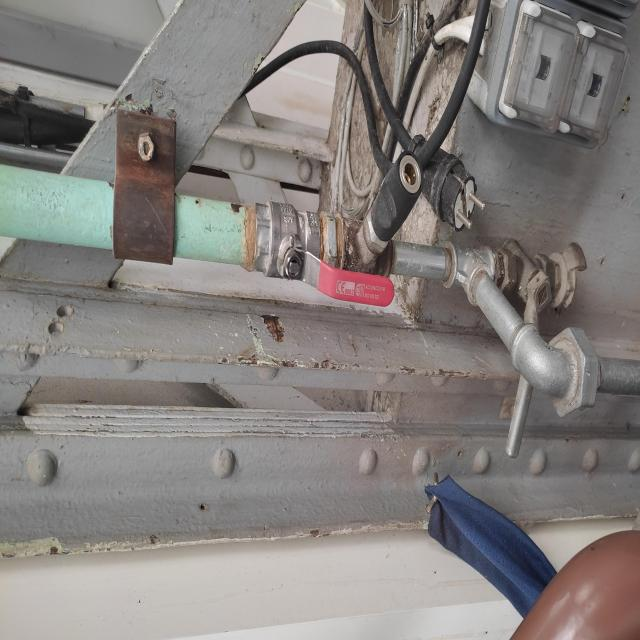opened_valve: (250, 199, 396, 310)
